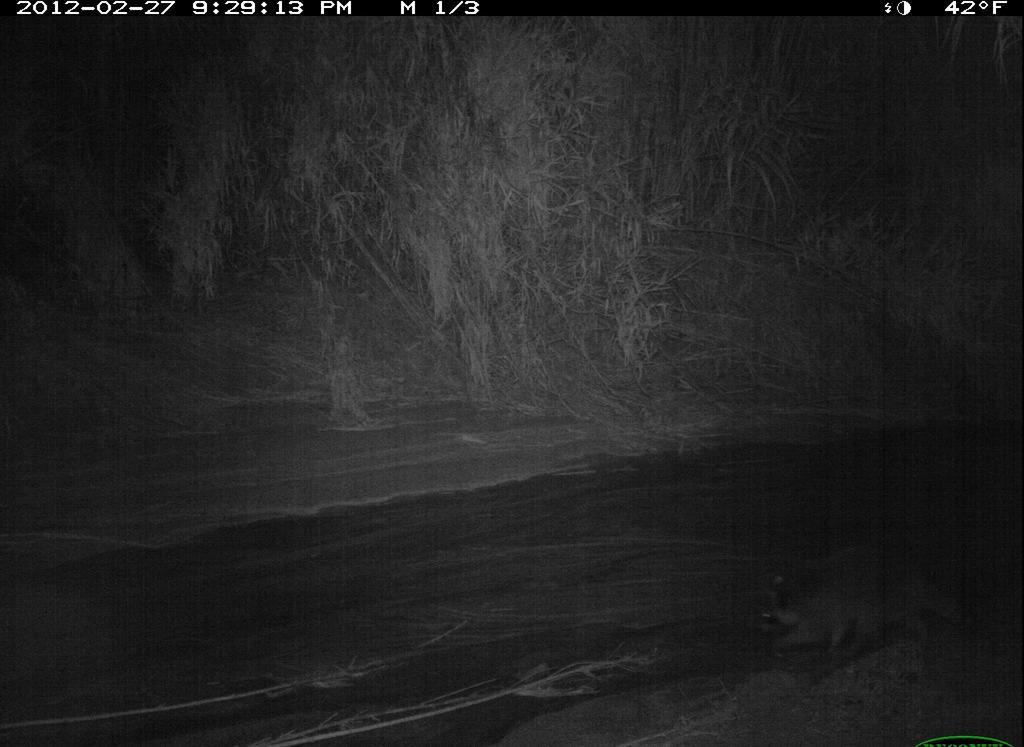raccoon: (749, 539, 987, 662)
